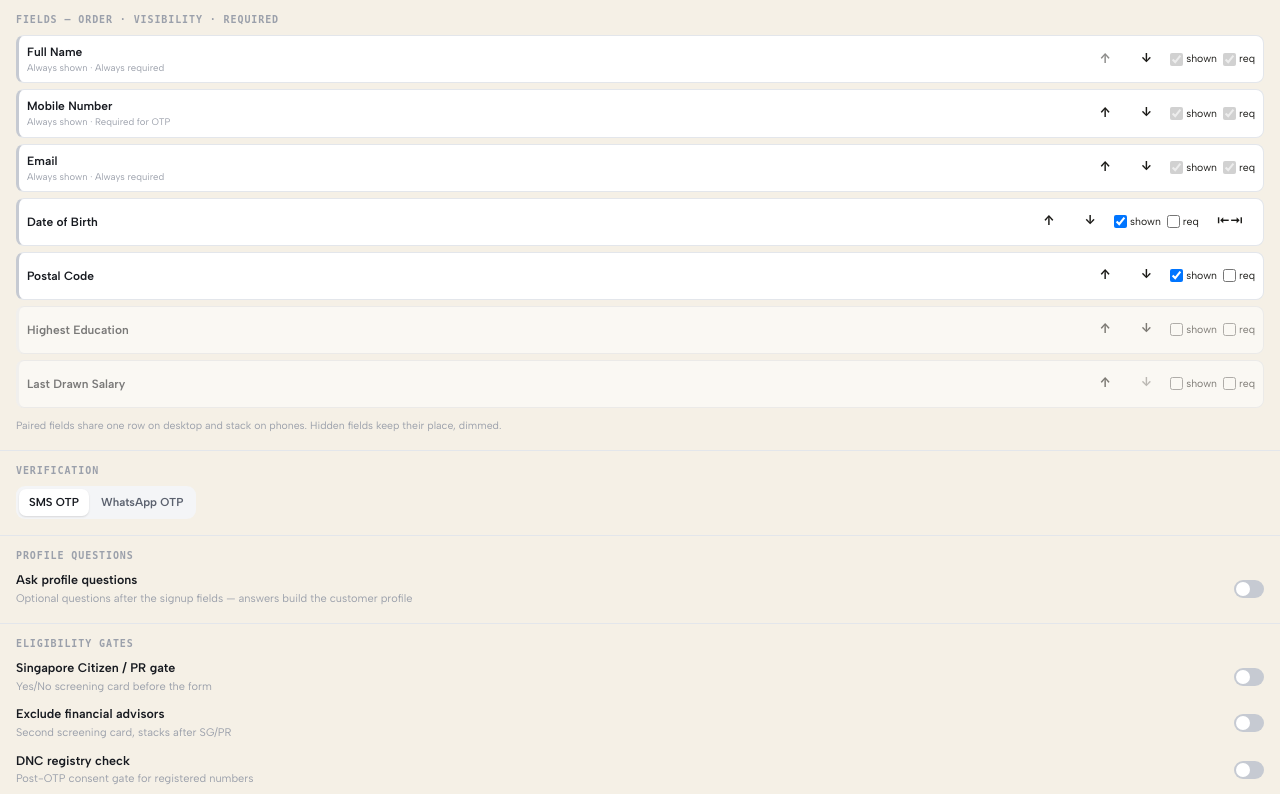
Scenario: FormPanel — fields editor mechanics (mock parity) › verification toggle writes form.verification and shows the static WhatsApp warning
Click the button "WhatsApp OTP" at [142, 502], box [91,488,193,516]
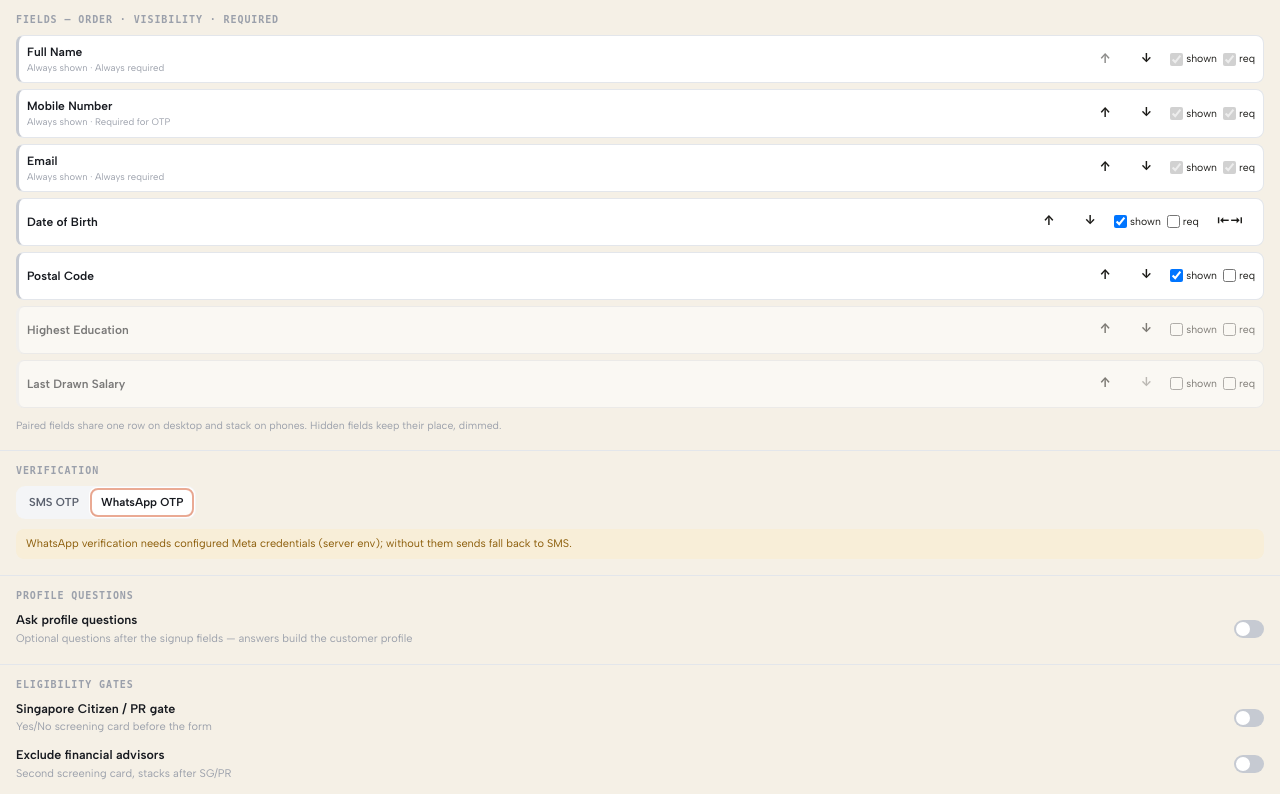
Now the text "needs configured Meta credentials" is shown, box [26,537,572,550]
